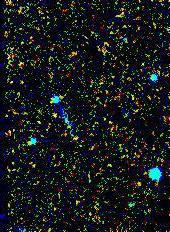star: (41, 103, 71, 133)
